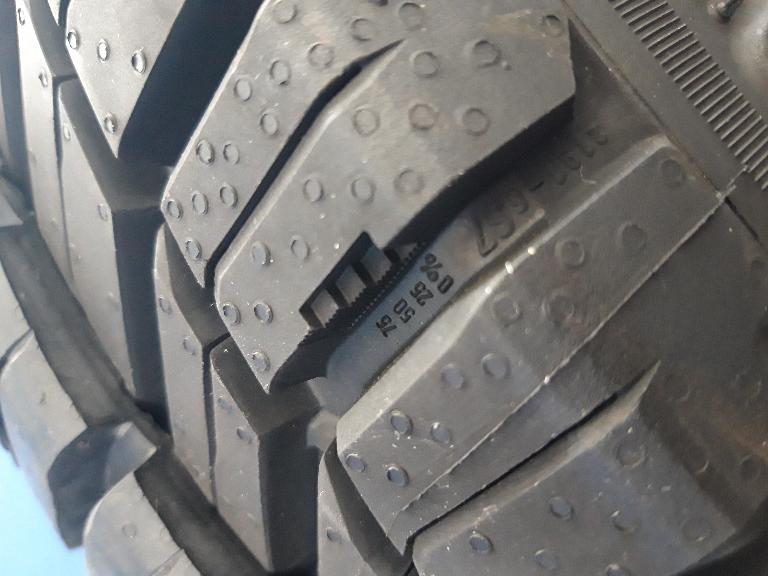temoin:100: (289, 226, 435, 359)
